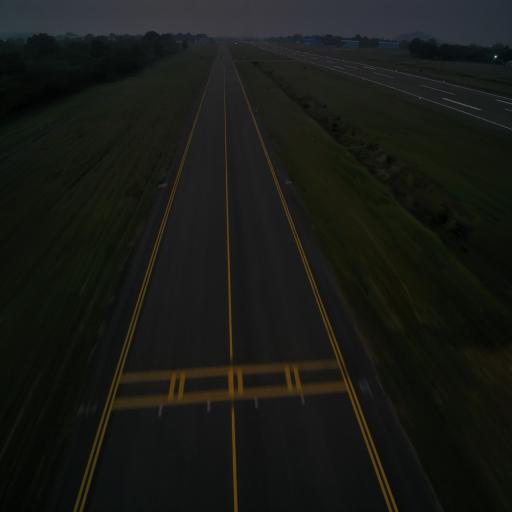off: (297, 388, 307, 409), (252, 393, 262, 411), (203, 397, 213, 414), (157, 404, 164, 419)
on: (286, 177, 288, 184), (164, 180, 166, 186)
